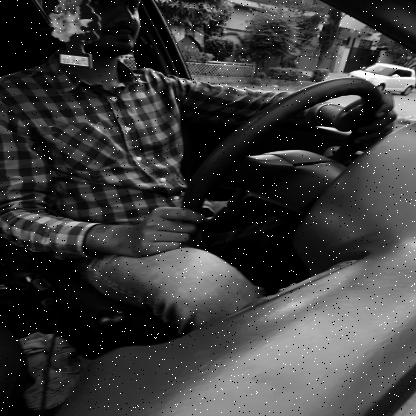no_seatbelt: (26, 0, 182, 172)
